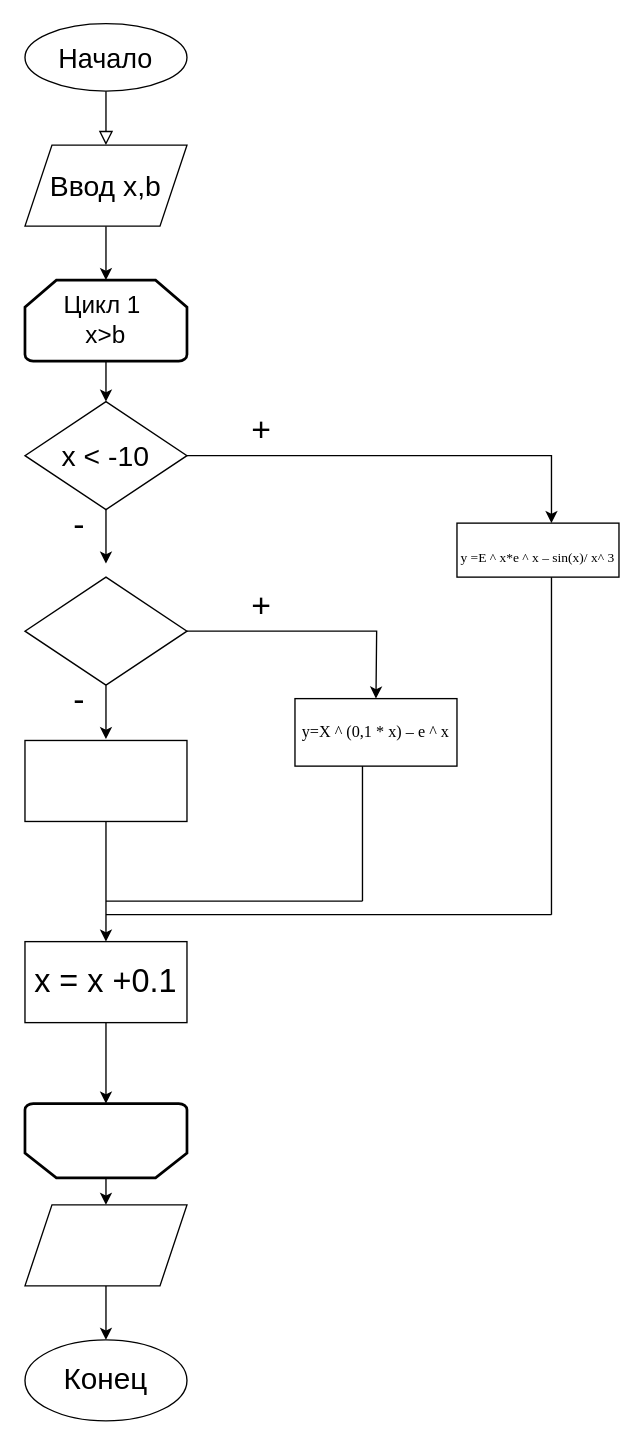
Image size: 643x1445. Some labels were removed from this diagram. Here are the shapes that lost their labels. From the top down, the centre of each, then its label:
At point (105, 630): "x <= -4".
At point (105, 780): "y=X ^ 2 * ln ( x ) – x ^ 3".
At point (105, 1140): "Цикл 1 Конец".
At point (105, 1245): "Вывод на экран y".
